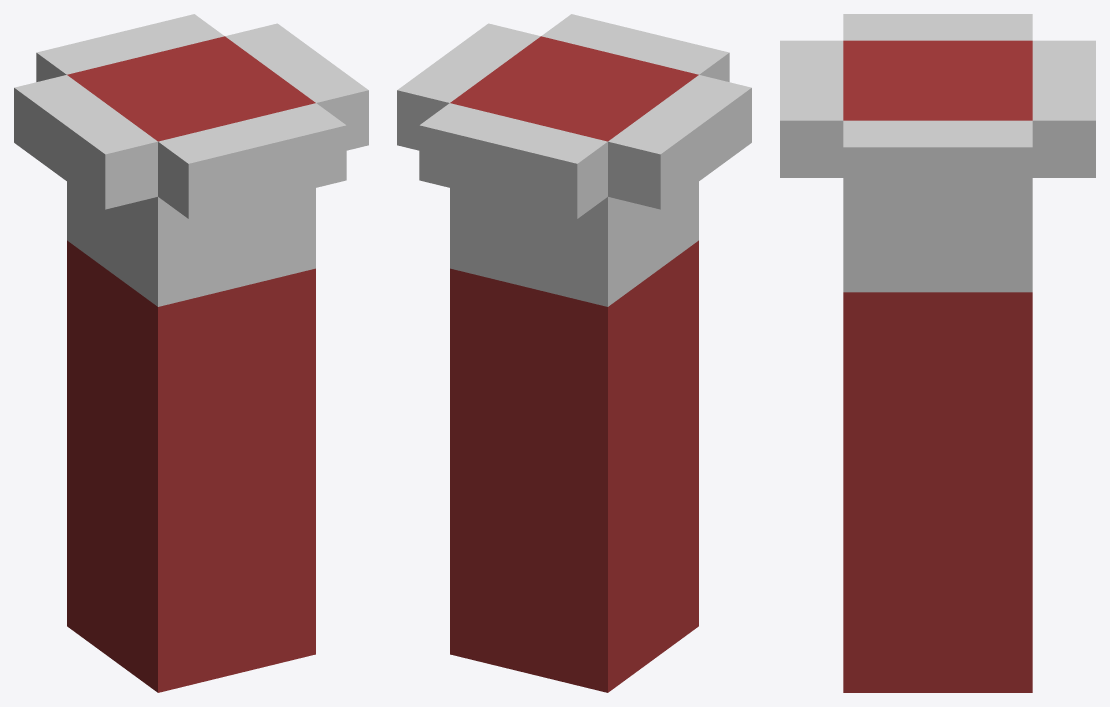
File: SchoolPack-36-Scientific vessel.obj
The picture shows the model from 3 angles, left to right: view 1: azimuth 30°, elevation 25°; view 2: azimuth 150°, elevation 25°; view 3: azimuth 270°, elevation 25°; orthographic projection. The views are drawn at different scales.
Parts seen in each view (by area): view 1: Scientific vessel; view 2: Scientific vessel; view 3: Scientific vessel.
Boxes of the visible parts, <box> form: Scientific vessel: <box>14,14,368,692</box>; Scientific vessel: <box>397,14,751,692</box>; Scientific vessel: <box>780,14,1095,692</box>.
Bounding box in the file's own units: 0.5 × 1 × 0.5.
Materials: 1 (1 with a texture image).
